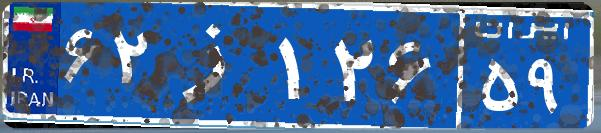1: (273, 28, 330, 110)
2: (330, 28, 385, 110), (110, 28, 158, 105)
5: (475, 38, 525, 113)
6: (385, 28, 445, 110), (57, 26, 110, 107)
9: (525, 38, 570, 115)
ز: (158, 15, 273, 115)
